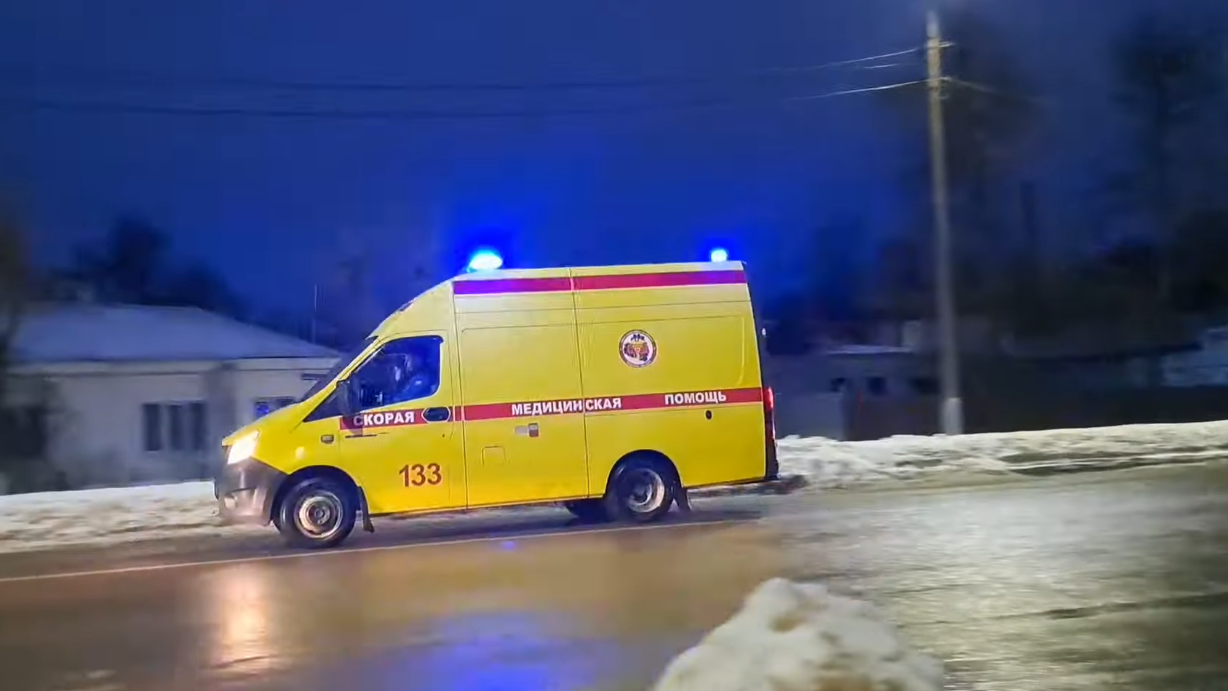intensive care unit: (213, 246, 781, 551)
